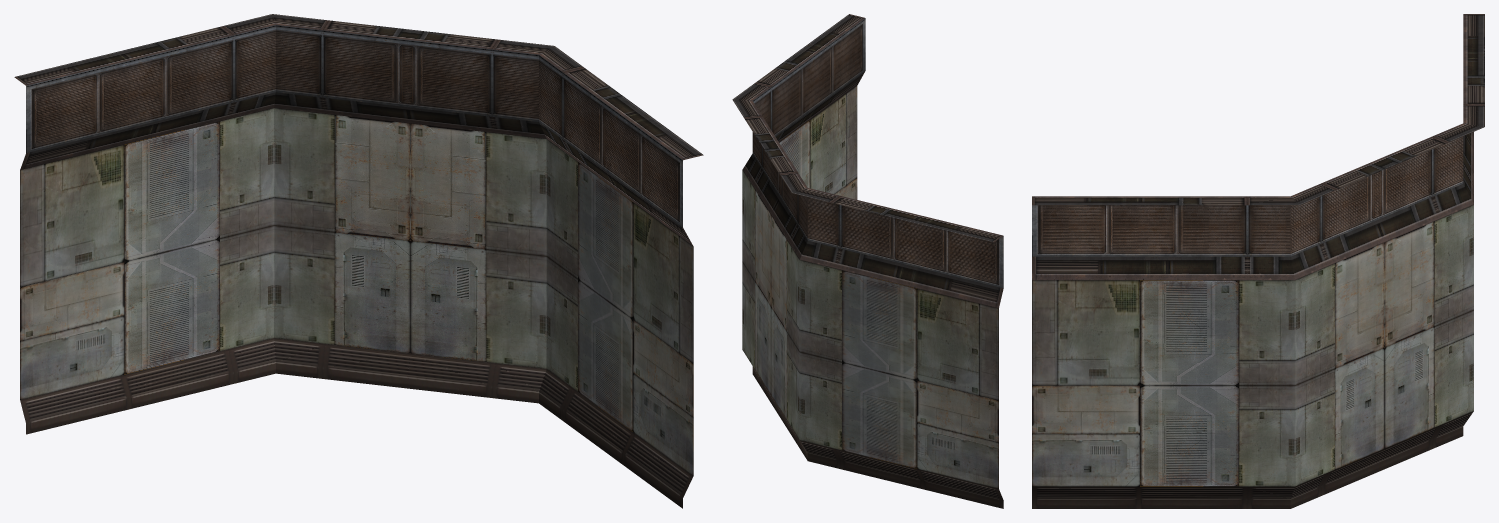
The model's file is Wall_High_new07.fbx.
3 renders of one model, left to right at view 1: azimuth 30°, elevation 25°; view 2: azimuth 150°, elevation 25°; view 3: azimuth 270°, elevation 25°, orthographic. The views are drawn at different scales.
Parts seen in each view (by area): view 1: Wall_High_new07; view 2: Wall_High_new07; view 3: Wall_High_new07.
Boxes of the visible parts, x1,y1,x2,y2 form: Wall_High_new07: [14, 14, 703, 508]; Wall_High_new07: [732, 14, 1003, 508]; Wall_High_new07: [1032, 14, 1484, 508].
Size of the model in its own units: 525 by 400 by 525.
